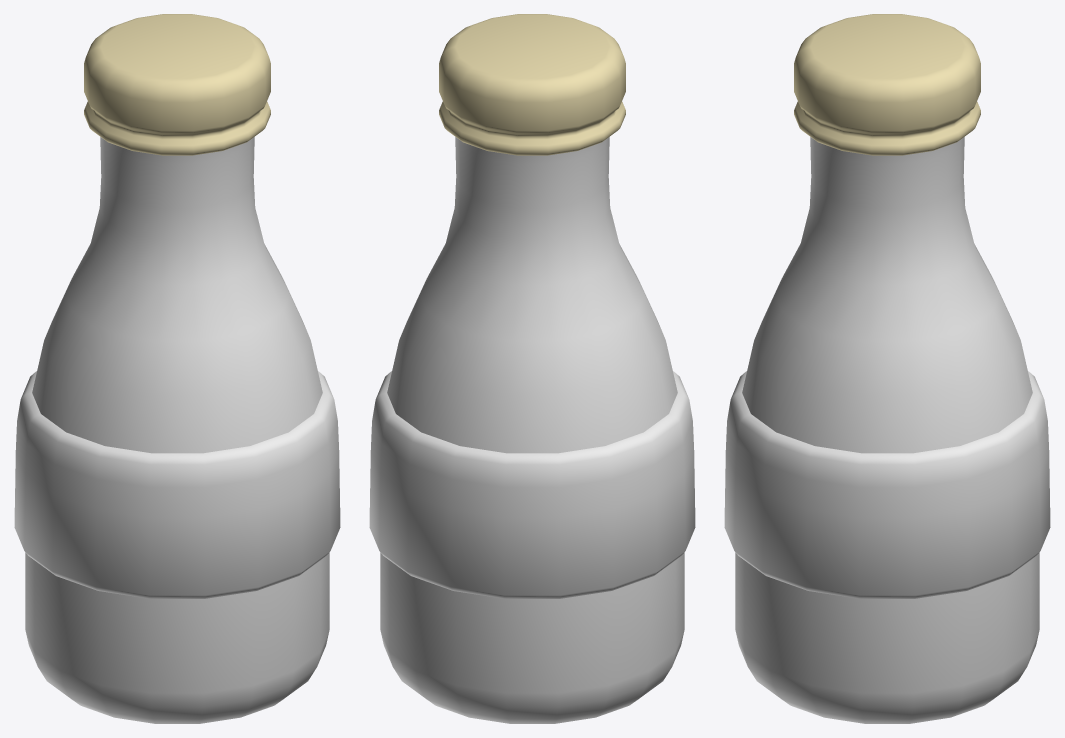
The model's file is bottle1.fbx.
3 renders of one model, left to right at view 1: azimuth 30°, elevation 25°; view 2: azimuth 150°, elevation 25°; view 3: azimuth 270°, elevation 25°, orthographic.
Visible parts, largest first — view 1: bottle; view 2: bottle; view 3: bottle.
Part boxes in pixels (x1,y1,x2,y2): bottle: [14, 14, 340, 723]; bottle: [369, 14, 695, 723]; bottle: [724, 14, 1050, 723].
Size of the model in its own units: 0.1045 by 0.2263 by 0.1061.
